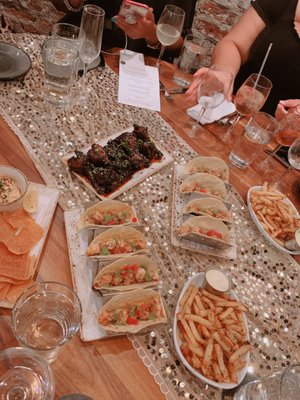pizza: (10, 281, 82, 363), (228, 111, 280, 170), (0, 347, 56, 400), (41, 38, 79, 108), (233, 364, 300, 400), (78, 4, 106, 76), (177, 32, 214, 75), (185, 156, 230, 183)
sushi: (0, 166, 28, 214)
